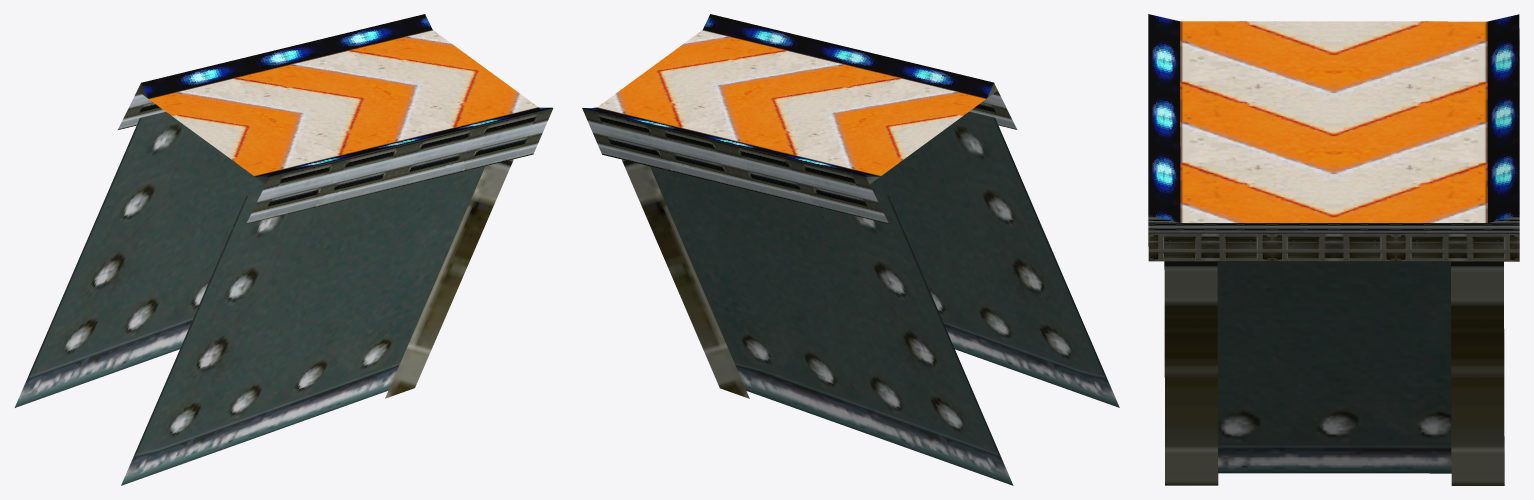
File: Ramp.obj
3 renders of one model, left to right at view 1: azimuth 30°, elevation 25°; view 2: azimuth 150°, elevation 25°; view 3: azimuth 270°, elevation 25°, orthographic. The views are drawn at different scales.
Bounding box in the file's own units: 60.32 × 38.88 × 31.88.
4 materials, 4 textured.
